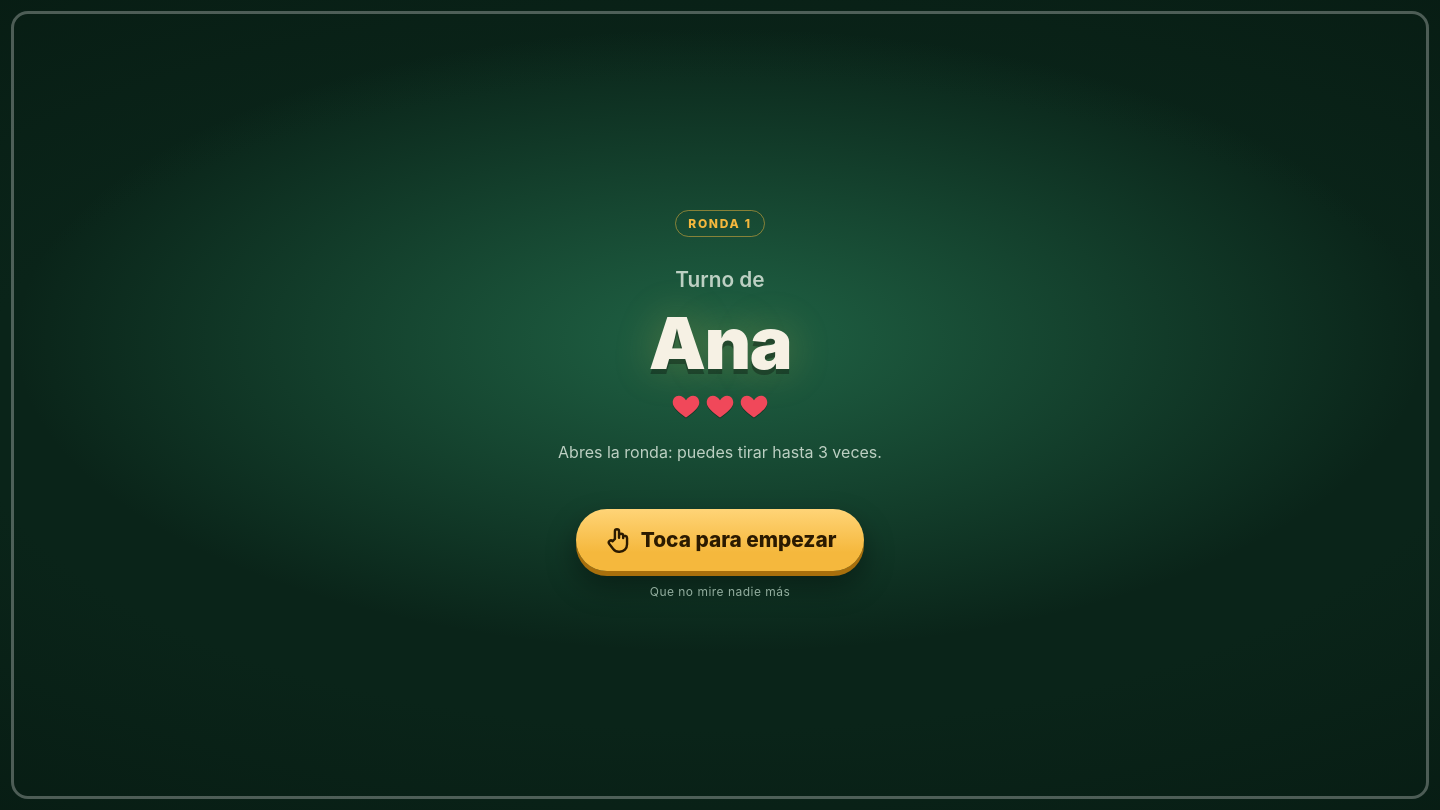
Scenario: muestra el error del servidor al plantarse y deja reintentar
Click the button at [86, 405], box [0,0,1439,809]
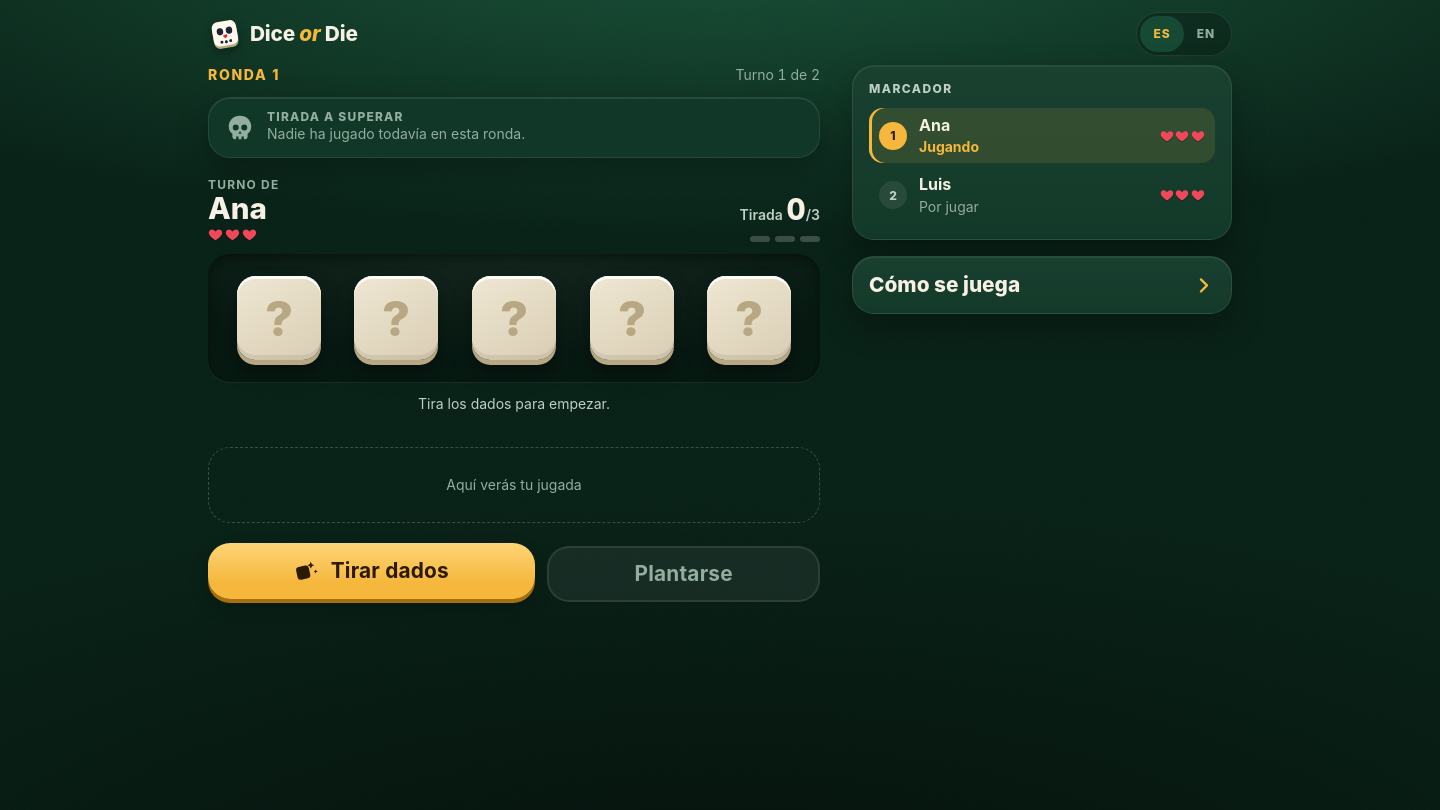
Click the button "Tirar dados" at [372, 571], box [208,543,535,599]
Wait 500 ms
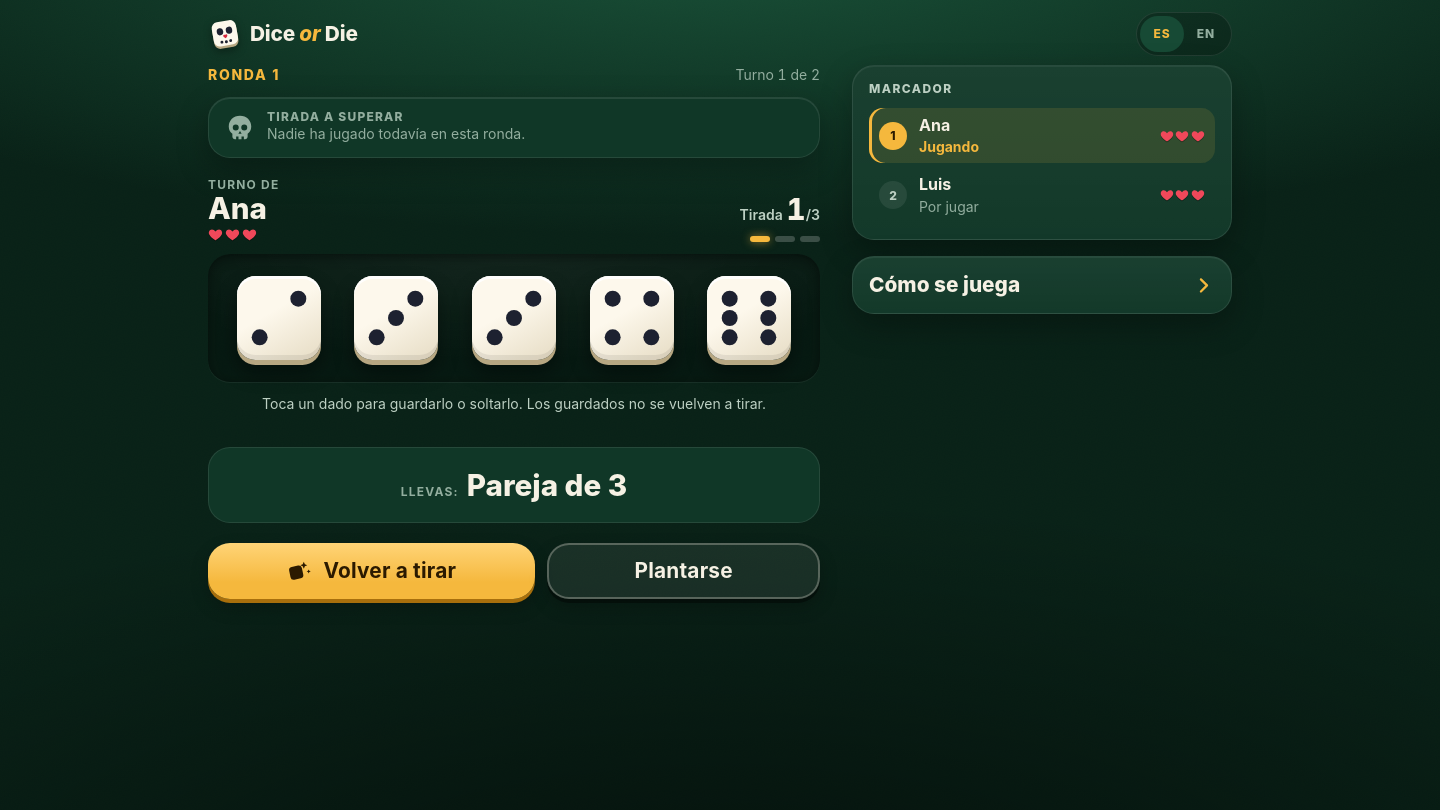
Click the button "Plantarse" at [684, 571], box [547,543,820,599]
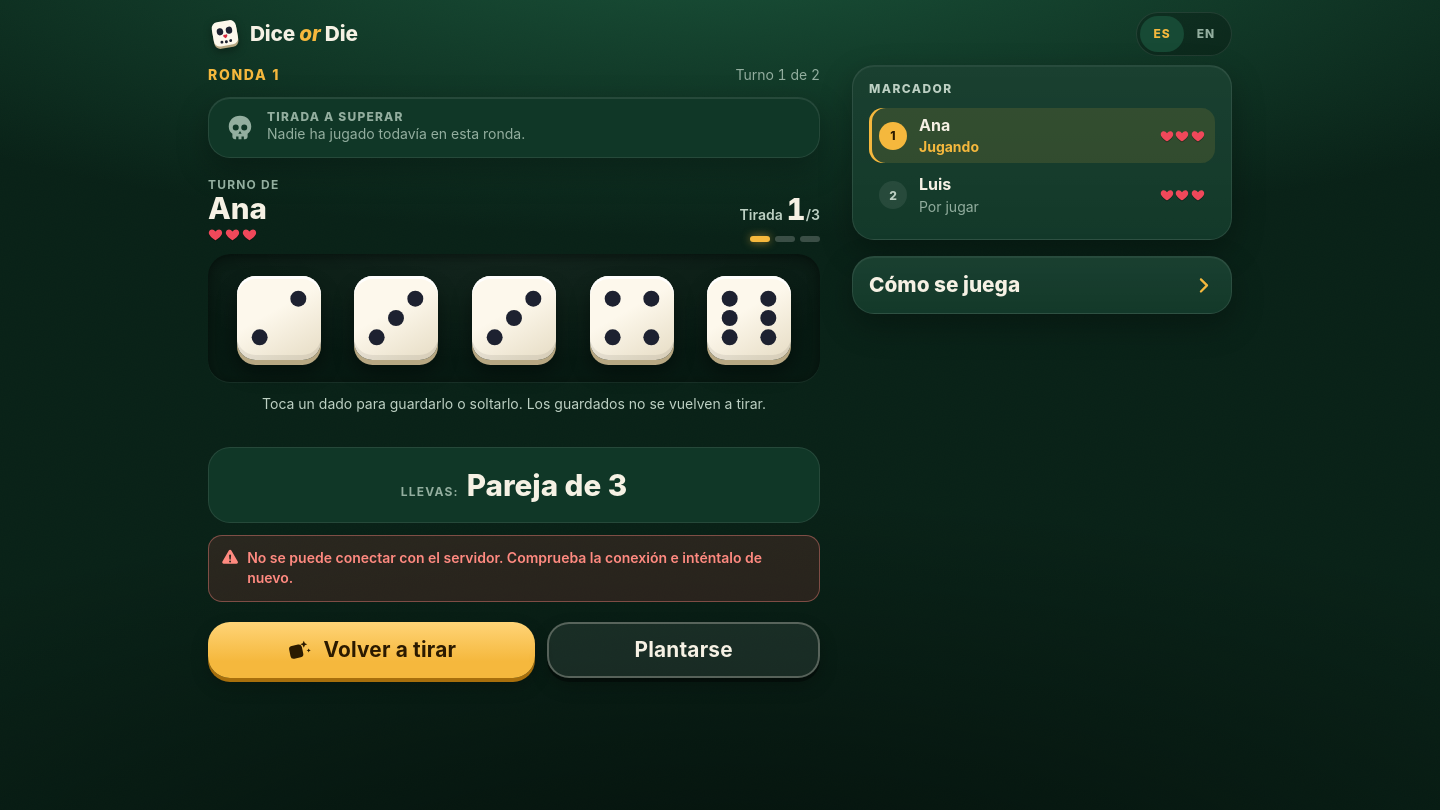
Now the button "Plantarse" is enabled, box [547,622,820,678]
Now the message shows "No se puede conectar con el servidor", box [247,549,762,586]
